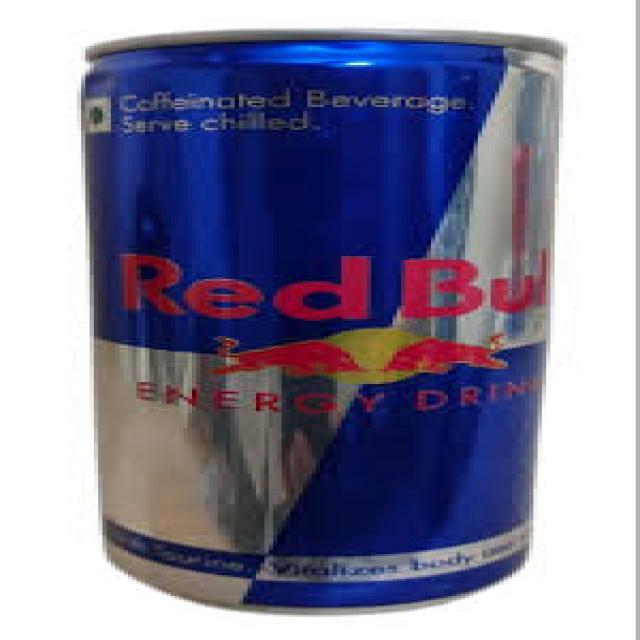red-bull: (70, 24, 552, 606)
